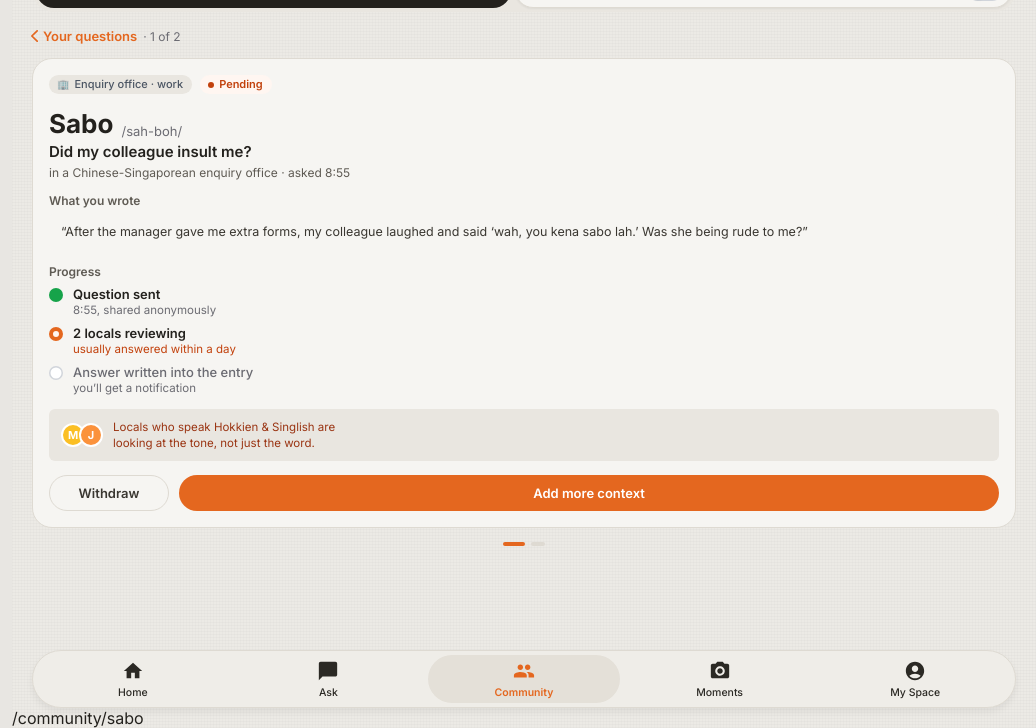
Scenario: Withdraw removes the question, returns to the list, and Undo brings it back
The width and height of the screenshot is (1036, 728).
(page scrolled)
Click the button "Withdraw" at (109, 493), box 49,475 -> 169,511
(page scrolled)
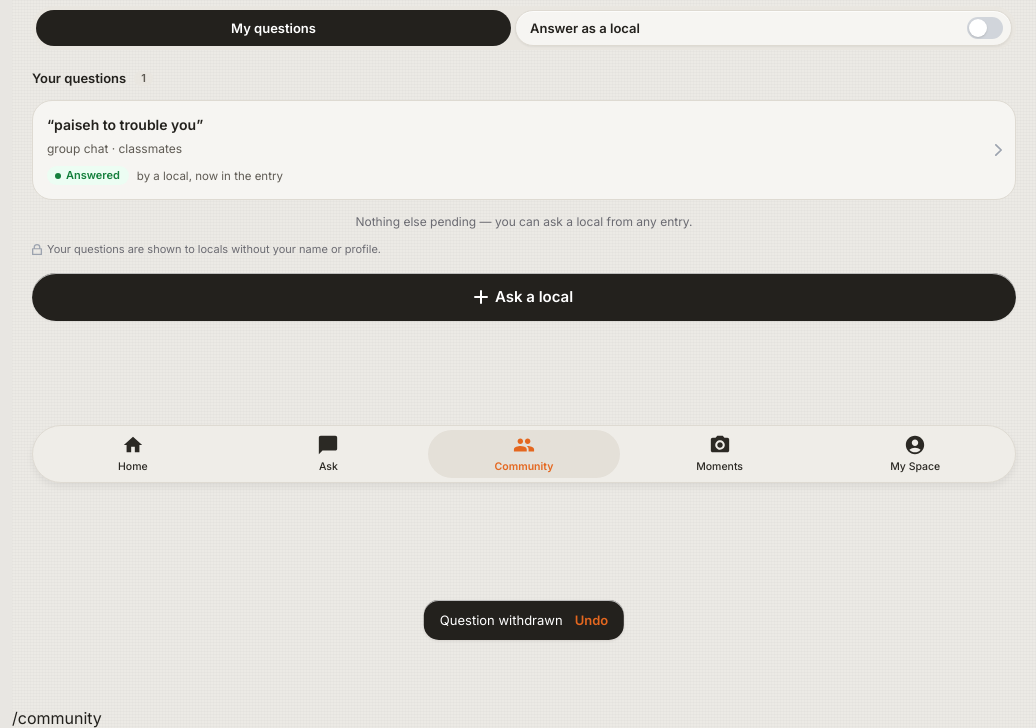
Expected: the text with test id "location" reads "/community", 12,708 -> 102,727
Expected: the message reads "Question withdrawn", 440,612 -> 563,628
Click the button "Undo" at (591, 620), box 575,608 -> 608,632
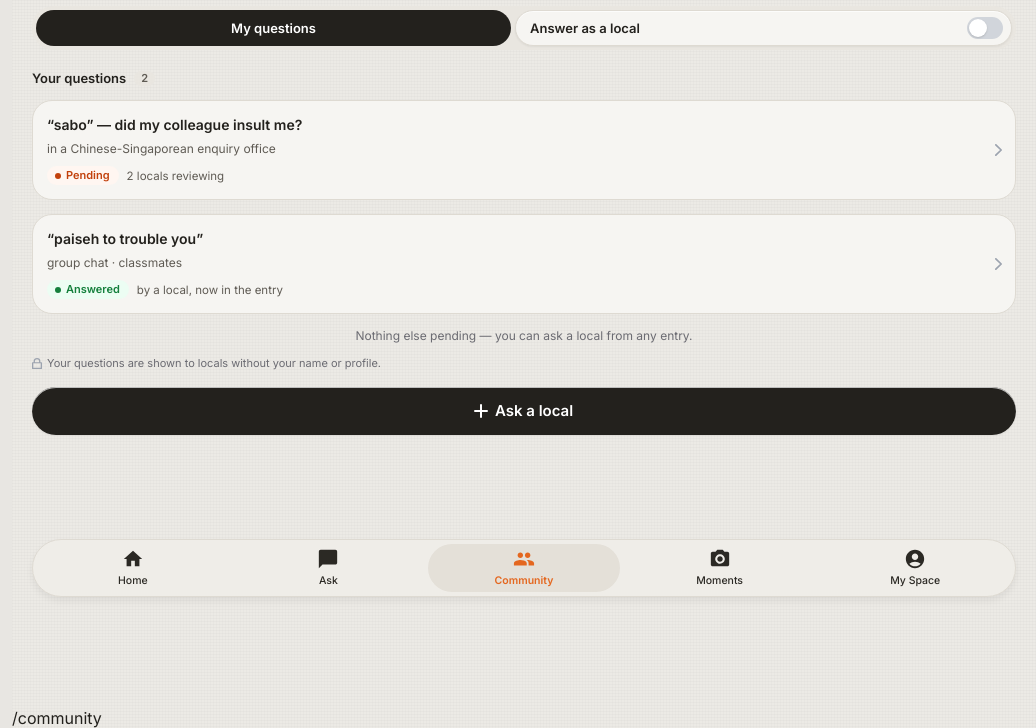
Expected: the link with aria-label "open question “sabo”" is shown, 32,100 -> 1016,200
